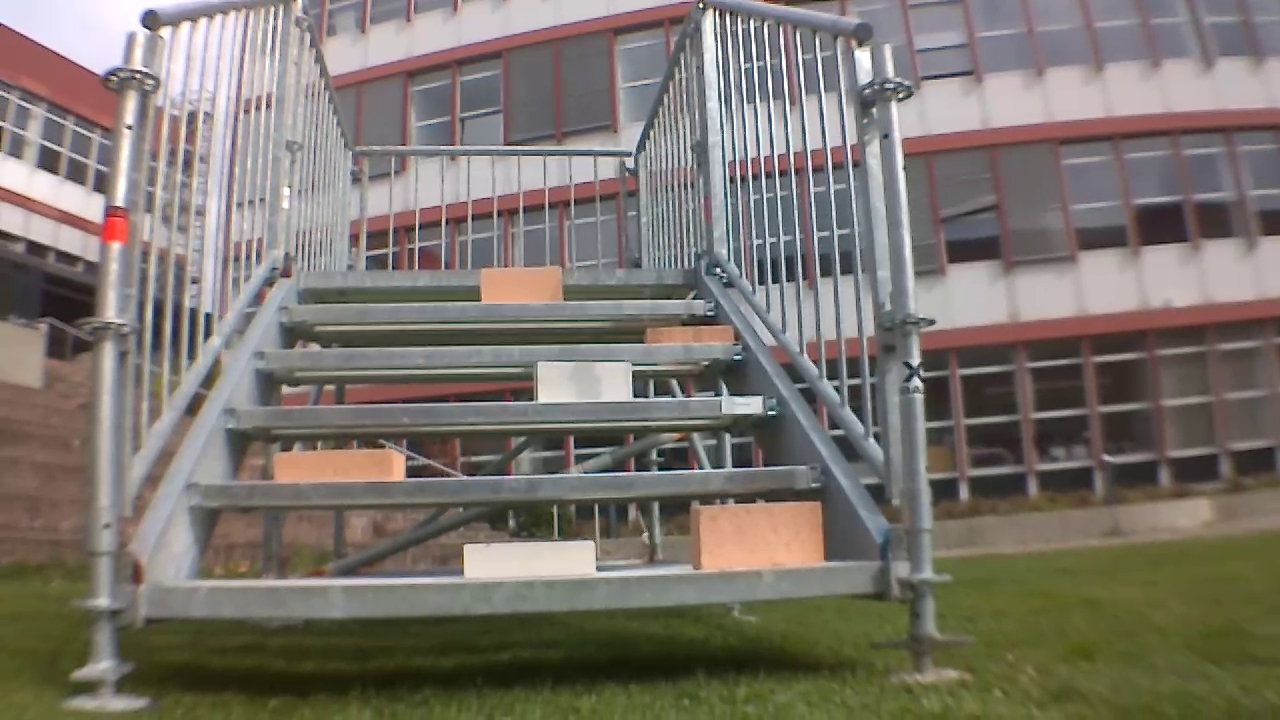brick: (686, 500, 826, 569), (462, 539, 600, 576), (272, 448, 406, 482), (536, 361, 634, 403), (477, 267, 562, 303), (645, 325, 734, 345)
edge: (144, 560, 890, 618), (191, 456, 831, 504), (237, 394, 784, 425), (254, 340, 751, 371), (281, 299, 720, 325), (301, 264, 696, 285)
stairs: (107, 0, 928, 650)
steps: (137, 257, 892, 622)
